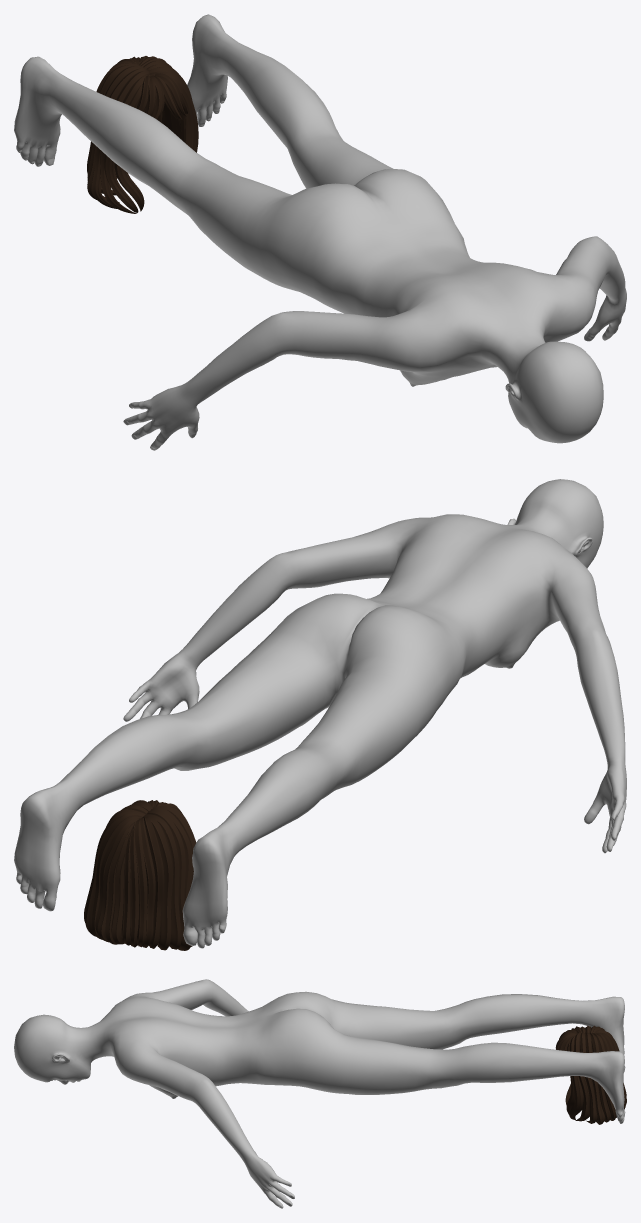
Rendered from caelinus-goddess.glb.
3 views of the same model, one above another, from view 1: azimuth 30°, elevation 25°; view 2: azimuth 150°, elevation 25°; view 3: azimuth 270°, elevation 25° (orthographic). The views are drawn at different scales.
Visible parts, largest first — view 1: Human, Hair; view 2: Human, Hair; view 3: Human, Hair.
Boxes of the visible parts, x1,y1,x2,y2 form: Human: (14, 14, 626, 450); Hair: (87, 56, 198, 213); Human: (14, 479, 626, 948); Hair: (84, 800, 196, 950); Human: (14, 979, 625, 1208); Hair: (555, 1025, 626, 1124).
Size of the model in its own units: 1.06 by 0.4201 by 1.75.
